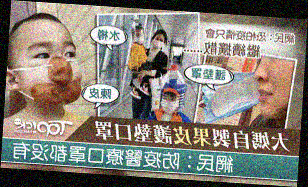with_mask: (17, 36, 82, 108), (159, 93, 182, 113), (151, 35, 165, 50), (131, 29, 145, 44)
without_mask: (253, 55, 294, 119)
